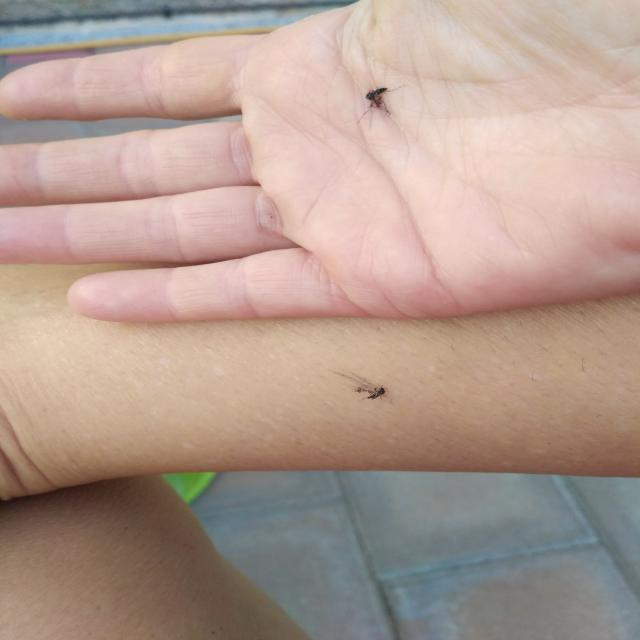albopictus: (339, 69, 413, 131)
